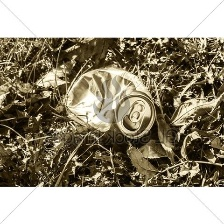can: (60, 60, 160, 140)
